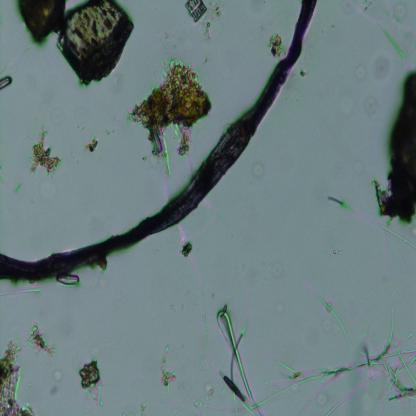Background material: (128, 61, 213, 172), (372, 70, 416, 225), (59, 1, 135, 88), (0, 336, 34, 415), (17, 0, 67, 45), (29, 126, 62, 177), (374, 21, 408, 63), (75, 356, 104, 405), (26, 324, 56, 358), (158, 341, 174, 397), (206, 1, 223, 43), (372, 54, 392, 81), (45, 367, 63, 396), (248, 154, 267, 180), (348, 148, 365, 177), (338, 89, 356, 116), (268, 35, 285, 59), (350, 60, 366, 81), (362, 94, 376, 115), (85, 133, 99, 154), (180, 240, 192, 261)
Cotton: (0, 0, 318, 283)
Diatom: (185, 0, 208, 23), (57, 273, 81, 287), (0, 73, 14, 90)
Glass filter fibre: (261, 288, 416, 408), (216, 311, 262, 414), (176, 295, 210, 414), (340, 202, 416, 253), (0, 288, 41, 300)
